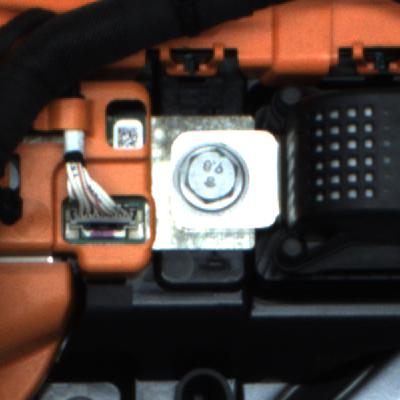nut_b: (172, 138, 252, 220)
